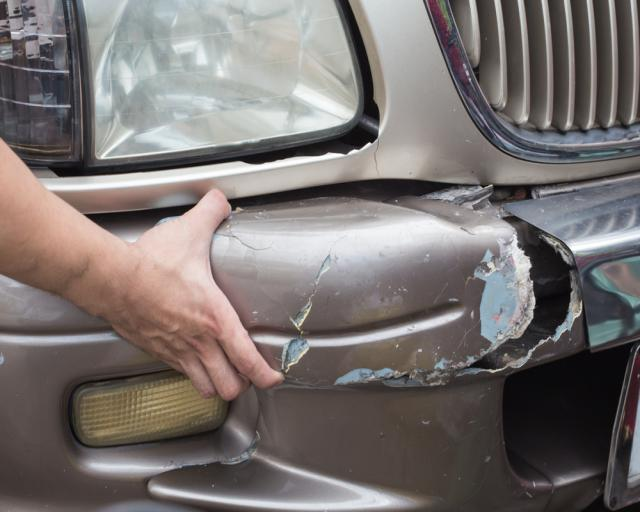crack: (364, 206, 578, 387)
